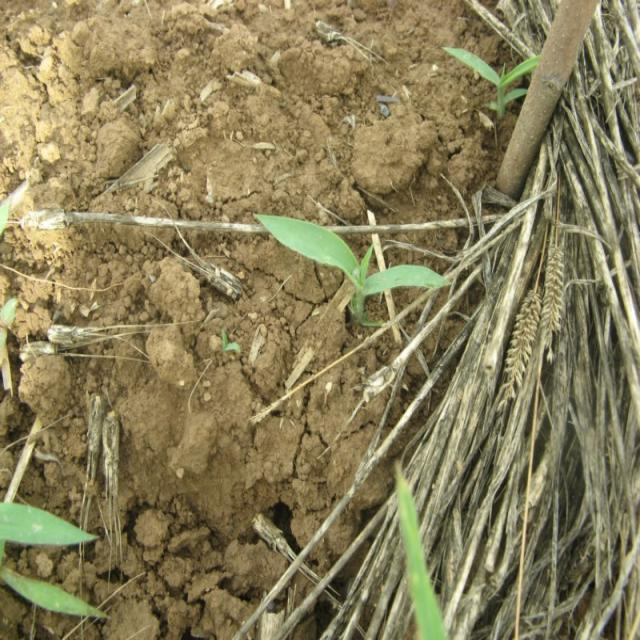bg: (258, 208, 454, 329)
